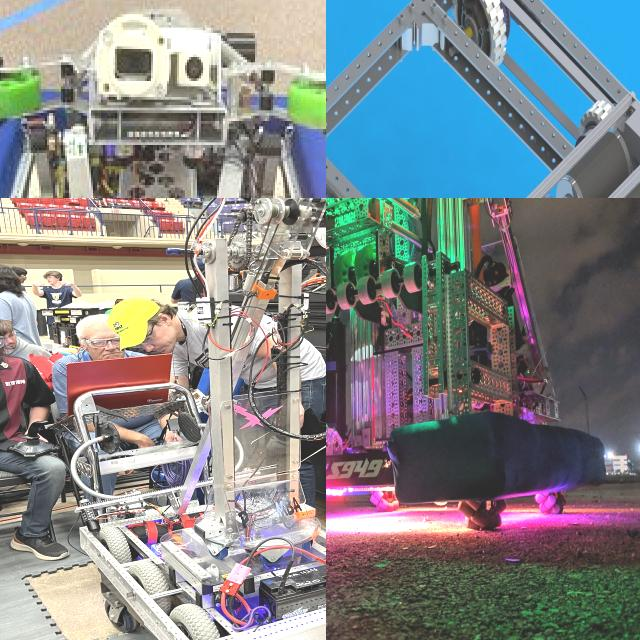FRC-Robots: (67, 198, 326, 640), (326, 198, 603, 564), (326, 0, 640, 198), (0, 26, 326, 198)
